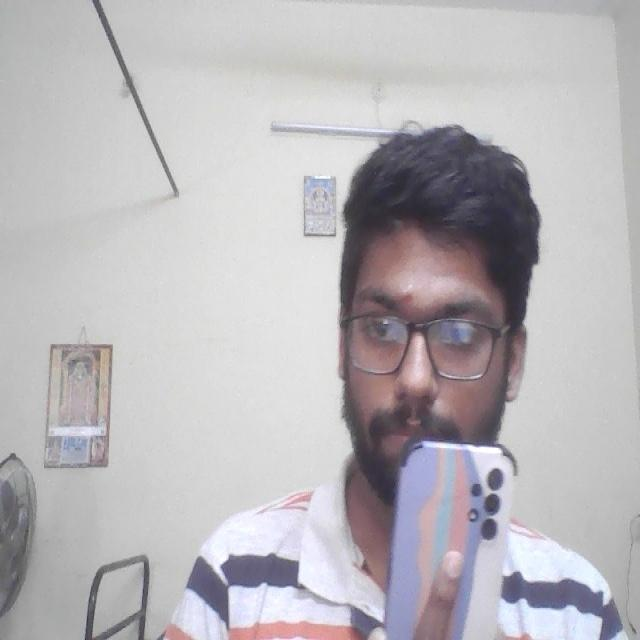Mobile: (388, 437, 515, 640)
